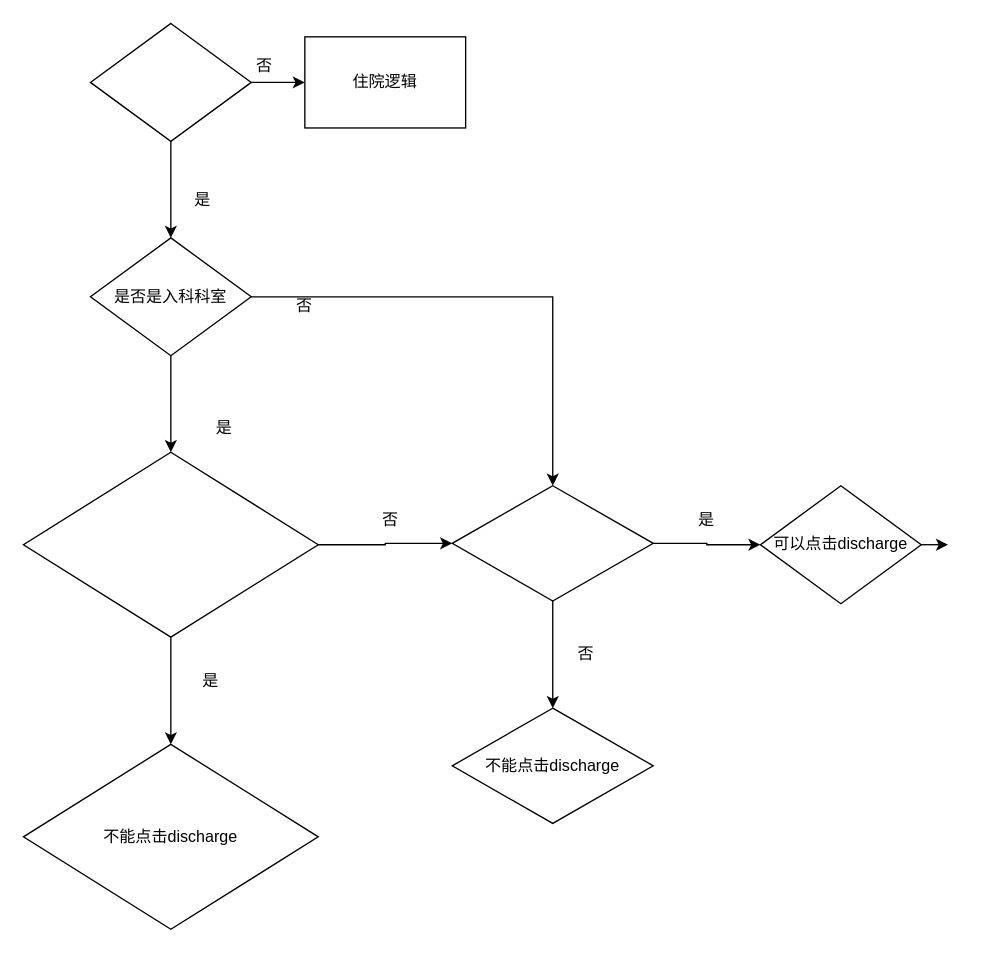
Some shapes in this 982 by 953 pixel diagram are drawn without their labels. The shapes that lost their labels are listed below. From the top down, each one's box as (x1, y1, x2, y2) in pixels, then its label:
(89, 22, 251, 141): 是否手术科室
(22, 451, 318, 637): 在其他手术中心是够有 未完成或者未取消的手术
(451, 484, 653, 601): 本科室的手术状态 是否已完成或取消
